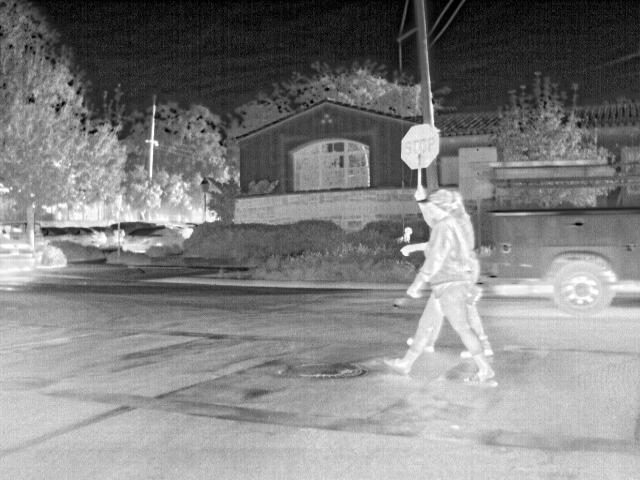car: (490, 191, 639, 316), (125, 223, 185, 253), (65, 224, 102, 247), (40, 225, 73, 247), (4, 218, 27, 246), (112, 222, 132, 247), (88, 225, 107, 246), (96, 224, 114, 245)
person: (421, 188, 469, 390), (426, 190, 481, 359)
